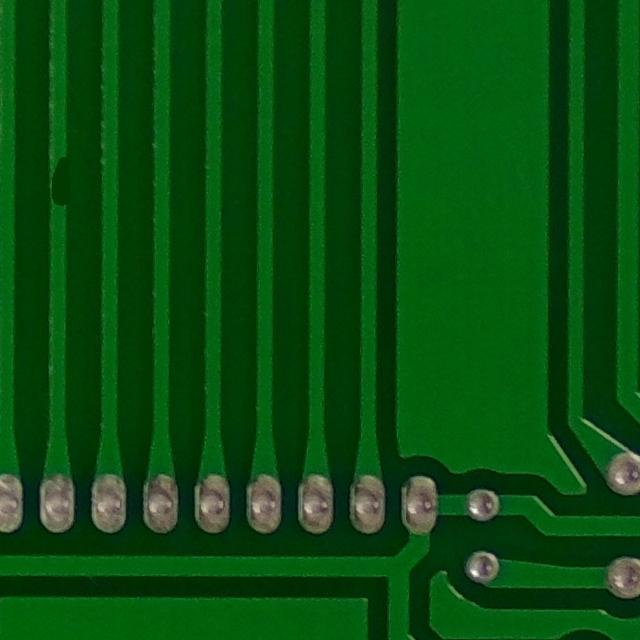mouse_bite: (35, 141, 91, 217)
